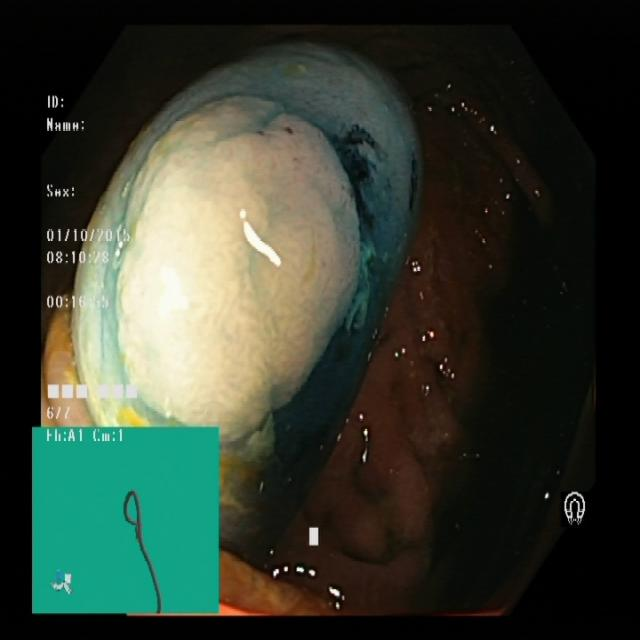diedpolyp: (87, 69, 419, 408)
location: (33, 428, 220, 616)
